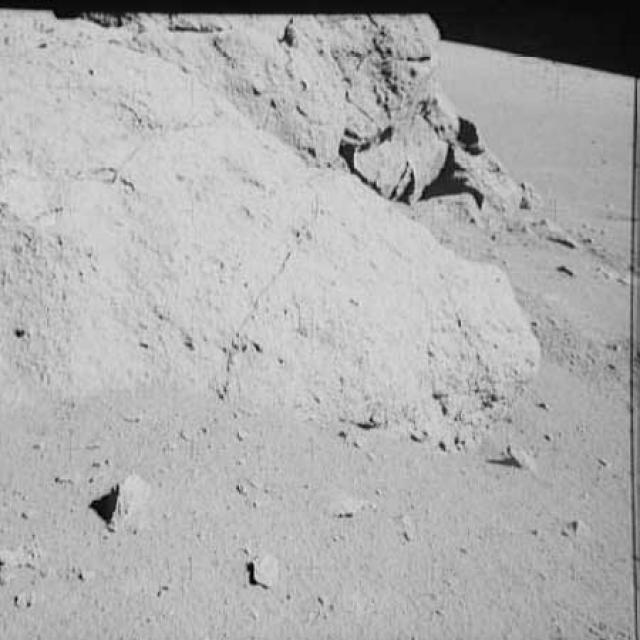rock: (85, 459, 168, 528), (240, 546, 294, 593), (319, 484, 384, 523), (498, 436, 542, 481)
